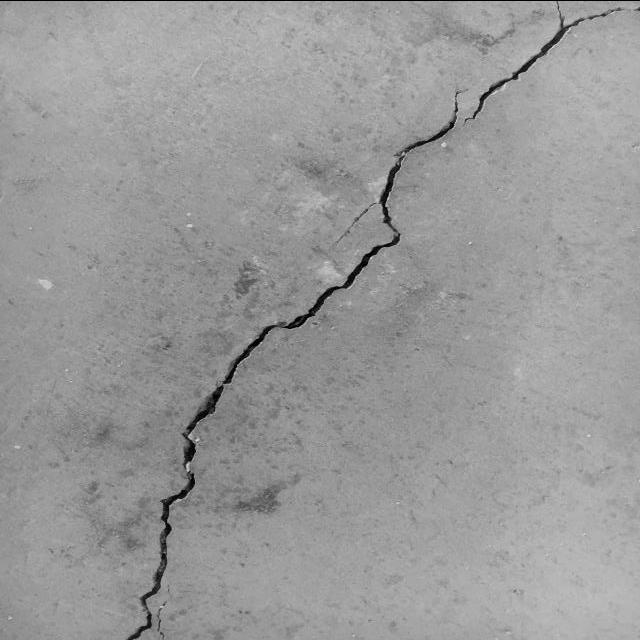SurfaceCrack: (45, 1, 640, 639)
